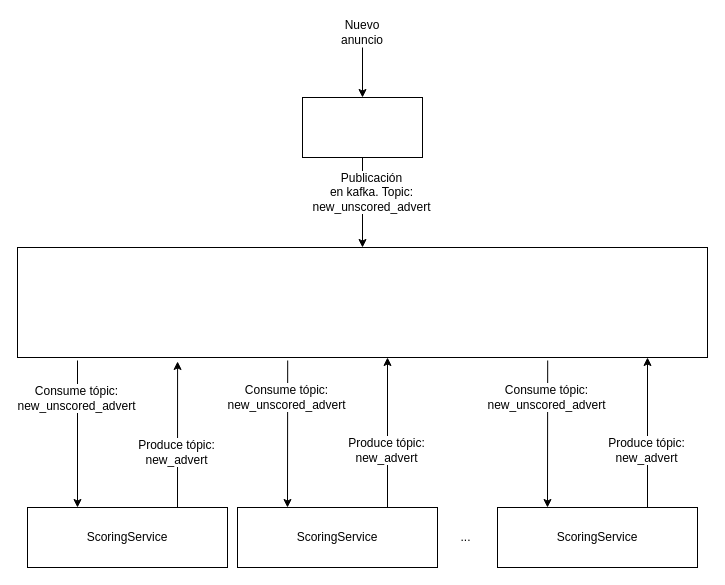
This 725x585 diagram has some shape labels left out. The shapes that lost their labels are listed below. From the top down, each one's box as (x1, y1, x2, y2) in pixels, then its label:
(302, 96, 422, 158): CommandService
(16, 246, 708, 358): Apache Kafka
